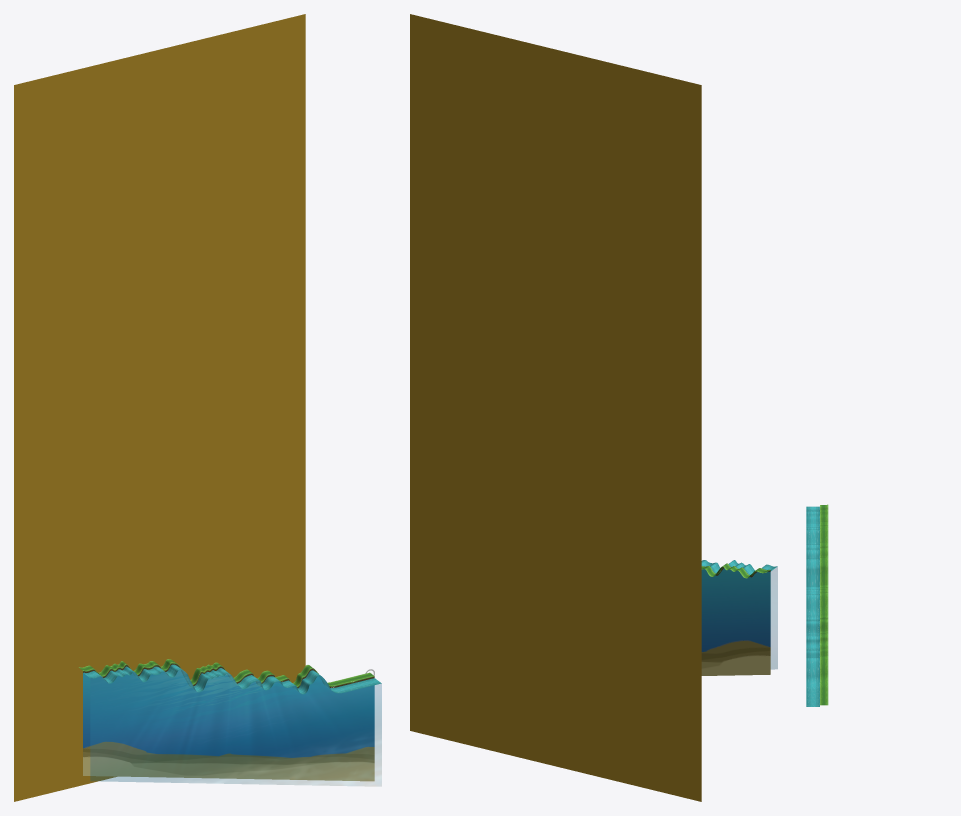
Rendered from Rio.FBX.
3 renders of one model, left to right at view 1: azimuth 30°, elevation 25°; view 2: azimuth 150°, elevation 25°; view 3: azimuth 270°, elevation 25°, orthographic. The views are drawn at different scales.
Parts seen in each view (by area): view 1: Background 003, Rio, Line002, Ground001; view 2: Background 003, Rio, Line002; view 3: Rio, Ground001.
Part boxes in pixels (<box>): Background 003: <box>14,14,305,801</box>; Rio: <box>83,663,381,781</box>; Line002: <box>90,670,381,786</box>; Ground001: <box>79,659,373,686</box>; Background 003: <box>410,14,701,801</box>; Rio: <box>701,560,777,675</box>; Line002: <box>771,567,777,669</box>; Rio: <box>806,506,819,706</box>; Ground001: <box>820,504,828,705</box>.
Size of the model in its own units: 1164 by 2689 by 520.
